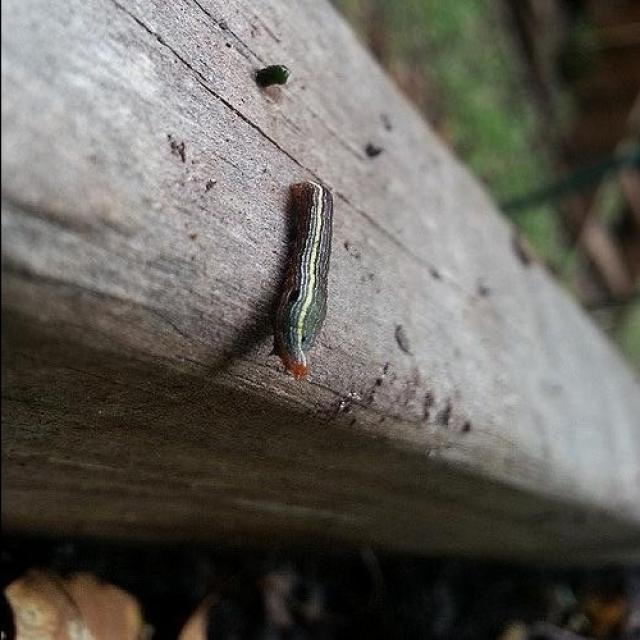army worm: (271, 178, 339, 388)
